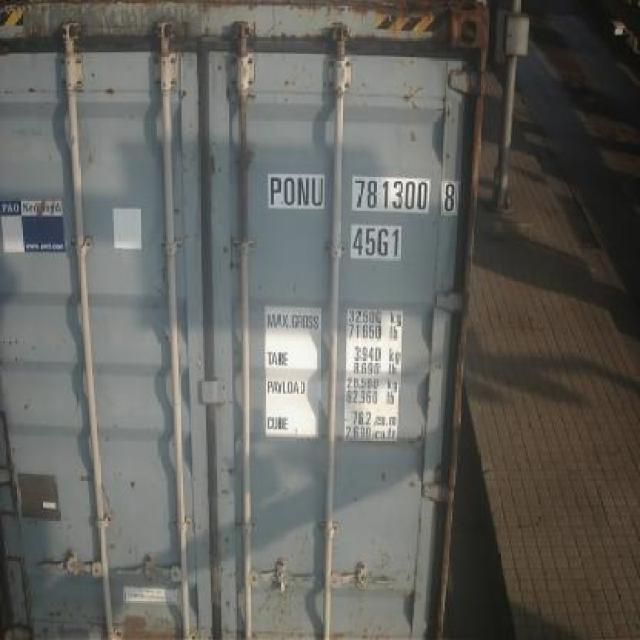ISO: (350, 225, 402, 259)
container_number: (275, 178, 450, 210)
